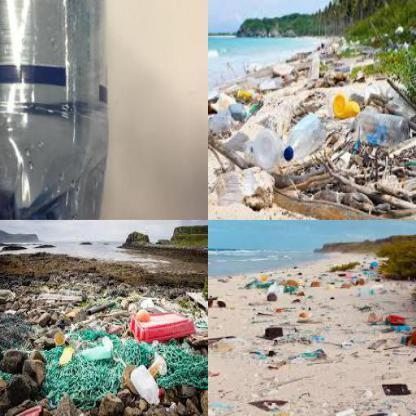plastic bottle: (1, 1, 104, 220), (347, 114, 410, 146), (284, 113, 325, 158), (131, 363, 159, 405)
